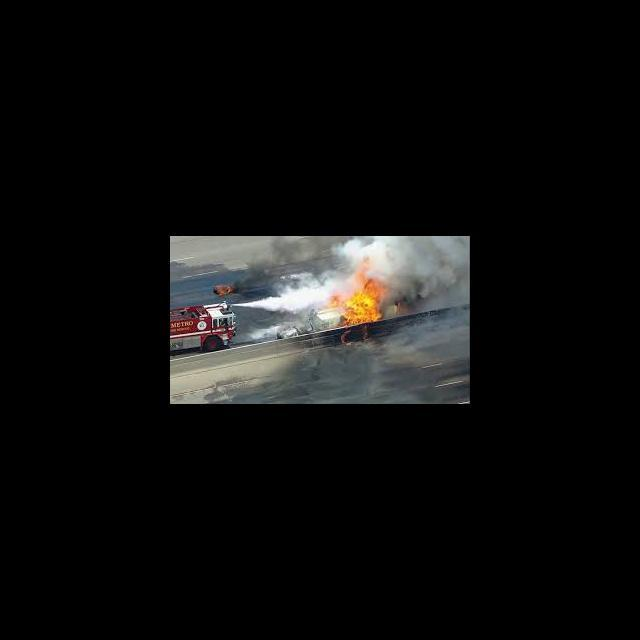Fire: (326, 260, 388, 324), (210, 282, 235, 298), (394, 300, 415, 316), (339, 328, 353, 347), (360, 324, 372, 344)
Smoke: (392, 236, 469, 294), (327, 236, 392, 259)
